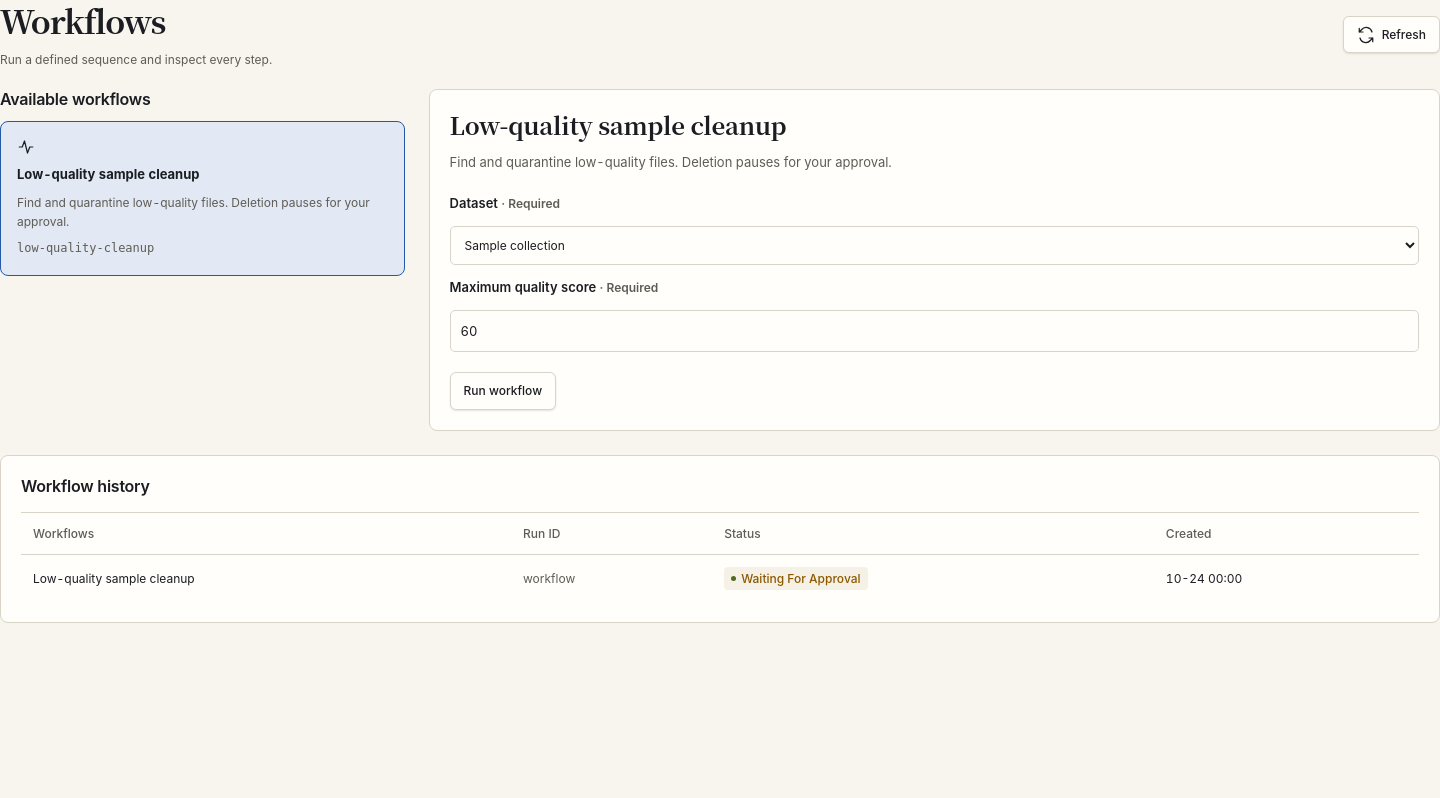
Test case: starts explicitly, records the run URL, and continues only from a paused run
The image size is (1440, 798).
Click the button "Run workflow" at {"x": 503, "y": 391}, box top-left (450, 372), bottom-right (556, 410)
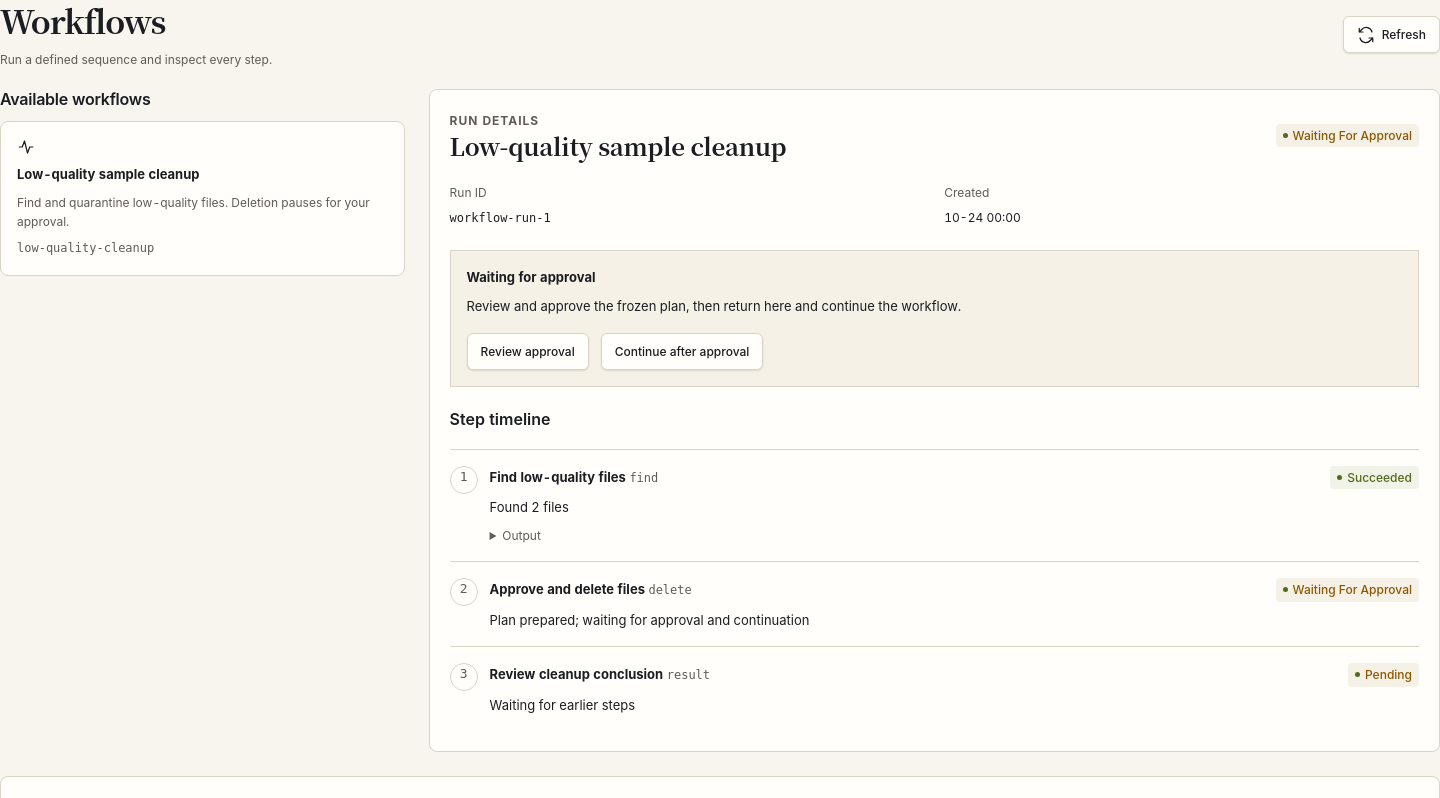
Result: the element "Run details" has attribute data-run-status="PAUSED" at top-left (429, 89), bottom-right (1439, 752)
Click the button "Continue after approval" at {"x": 682, "y": 352}, box top-left (601, 333), bottom-right (763, 370)
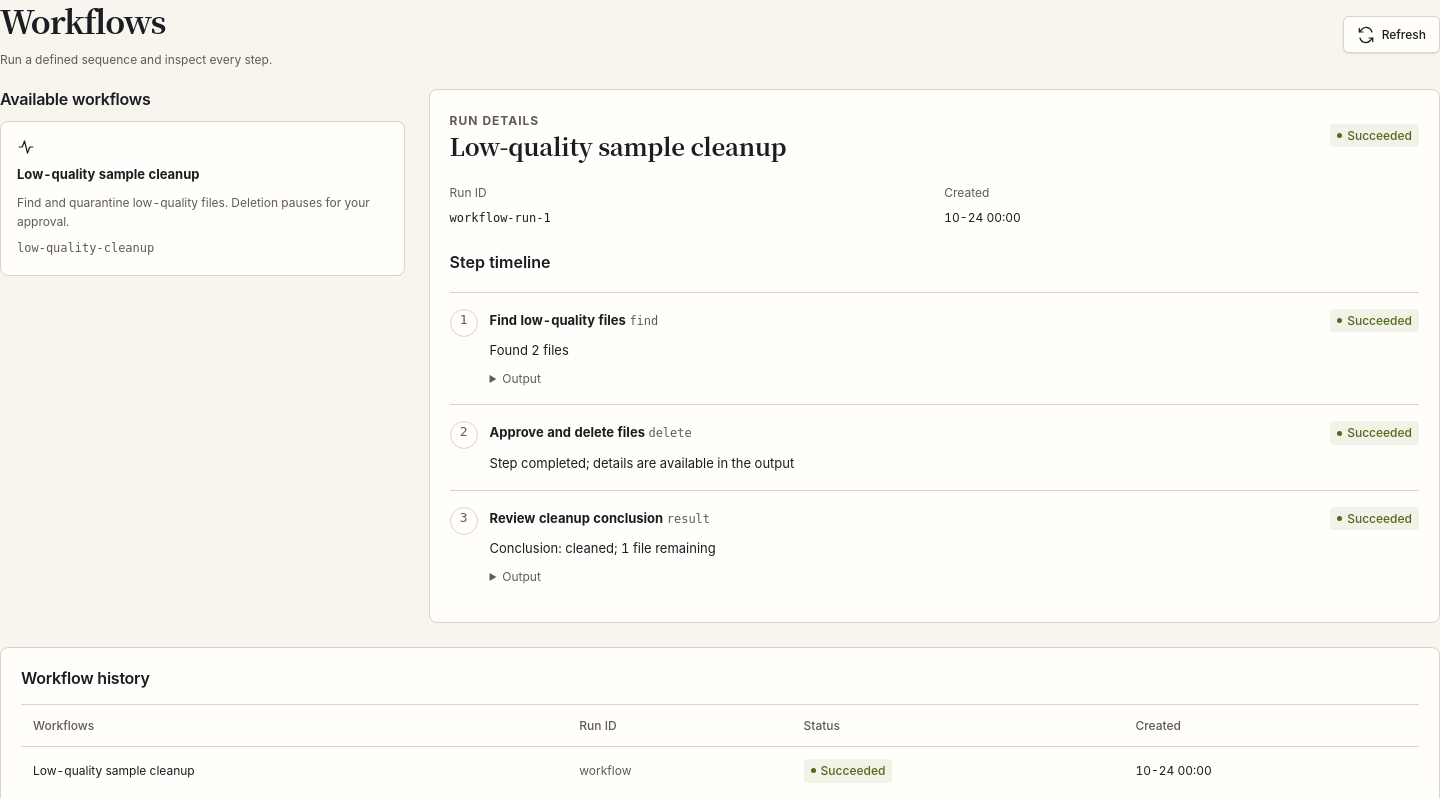
Result: the button "Continue after approval" is gone
Result: the text "Succeeded" is shown at top-left (804, 759), bottom-right (892, 783)
